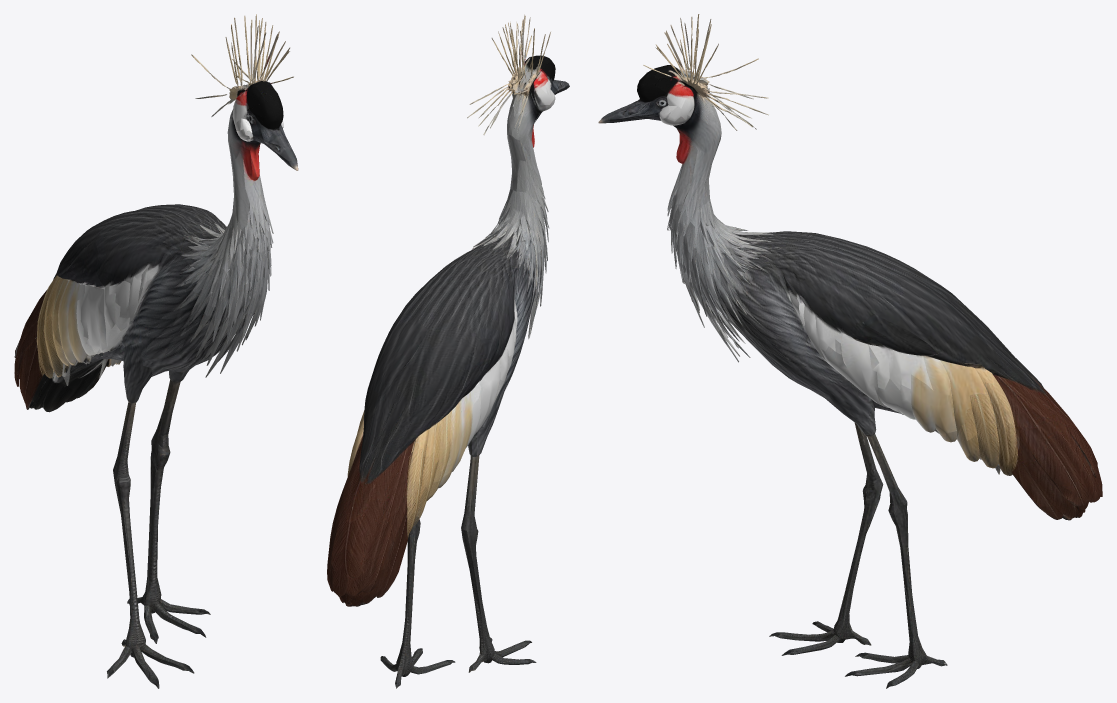
The model's file is grey-crowned-crane.glb.
The picture shows the model from 3 angles, left to right: view 1: azimuth 30°, elevation 25°; view 2: azimuth 150°, elevation 25°; view 3: azimuth 270°, elevation 25°; orthographic projection. The views are drawn at different scales.
Bounding box in the file's own units: 0.4154 × 1.9 × 1.36.
1 material, 1 textured.
